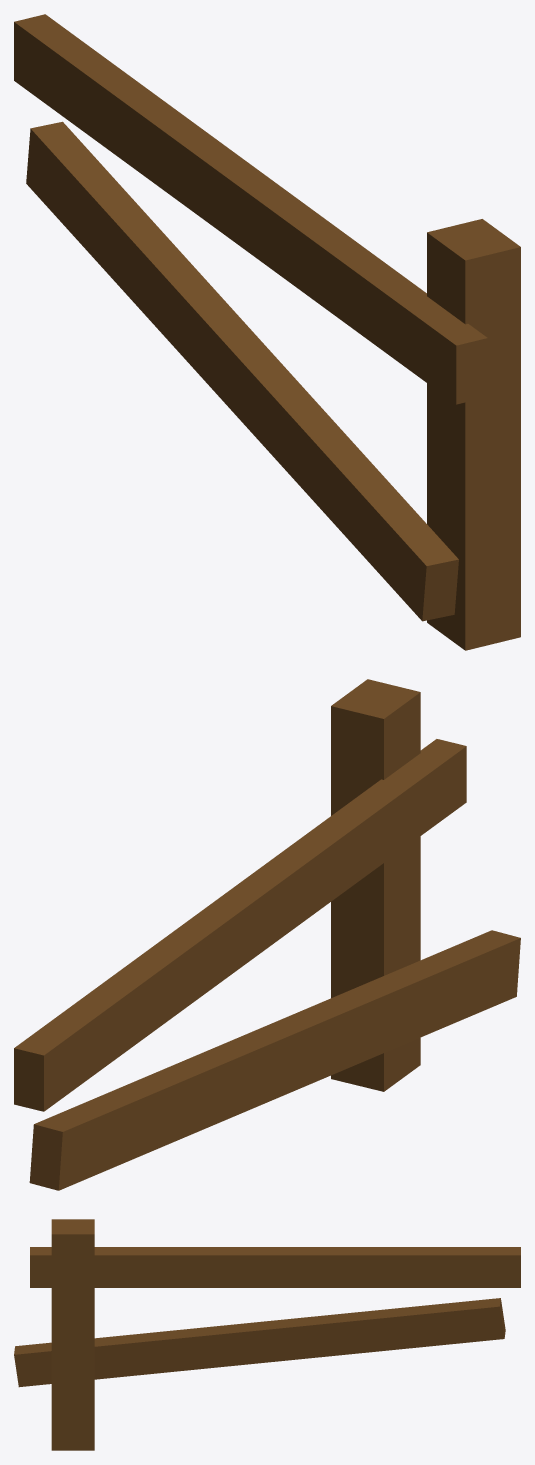
The model's file is Fence 5.fbx.
The picture shows the model from 3 angles, top to bottom: view 1: azimuth 30°, elevation 25°; view 2: azimuth 150°, elevation 25°; view 3: azimuth 270°, elevation 25°; orthographic projection. The views are drawn at different scales.
Parts seen in each view (by area): view 1: Fence_5; view 2: Fence_5; view 3: Fence_5.
Boxes of the visible parts, <box> form: Fence_5: <box>14,14,520,650</box>; Fence_5: <box>14,679,520,1190</box>; Fence_5: <box>14,1219,520,1450</box>.
Bounding box in the file's own units: 50 × 146 × 311.
Materials: 1 (1 with a texture image).
